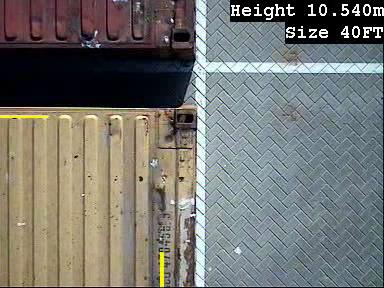groundmarker_2: (197, 36, 241, 112)
